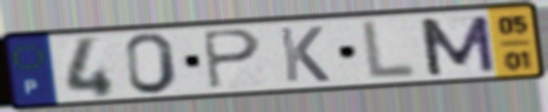0: (122, 31, 180, 96)
4: (63, 34, 119, 101)
K: (275, 24, 333, 84)
L: (360, 18, 420, 83)
M: (415, 13, 500, 78)
P: (199, 27, 265, 92)
